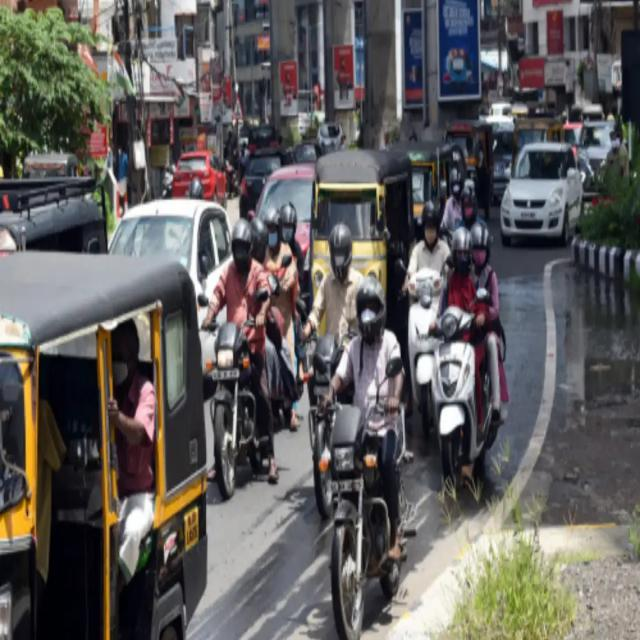Vehicles: (0, 235, 224, 640), (112, 194, 253, 394), (323, 383, 427, 639), (312, 129, 409, 345), (407, 260, 483, 488), (0, 162, 110, 287), (215, 316, 288, 502), (247, 154, 337, 302), (496, 141, 590, 253), (165, 140, 244, 234), (233, 140, 304, 222), (581, 112, 632, 186), (314, 109, 348, 157)
